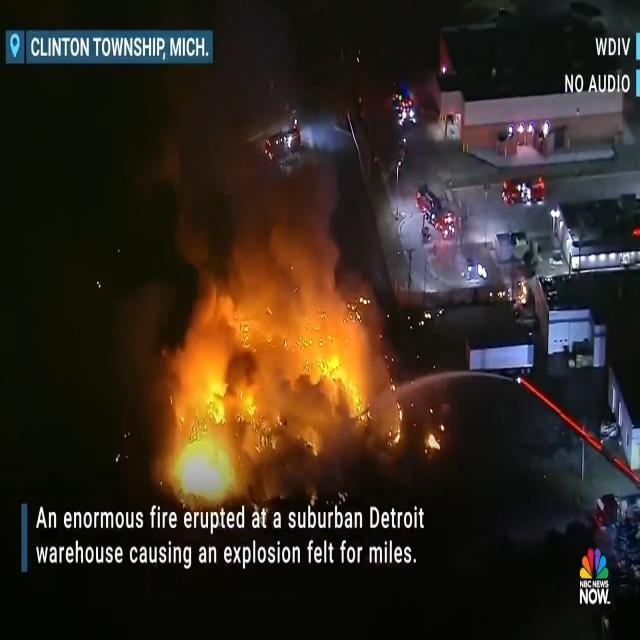fire: (162, 298, 378, 536)
